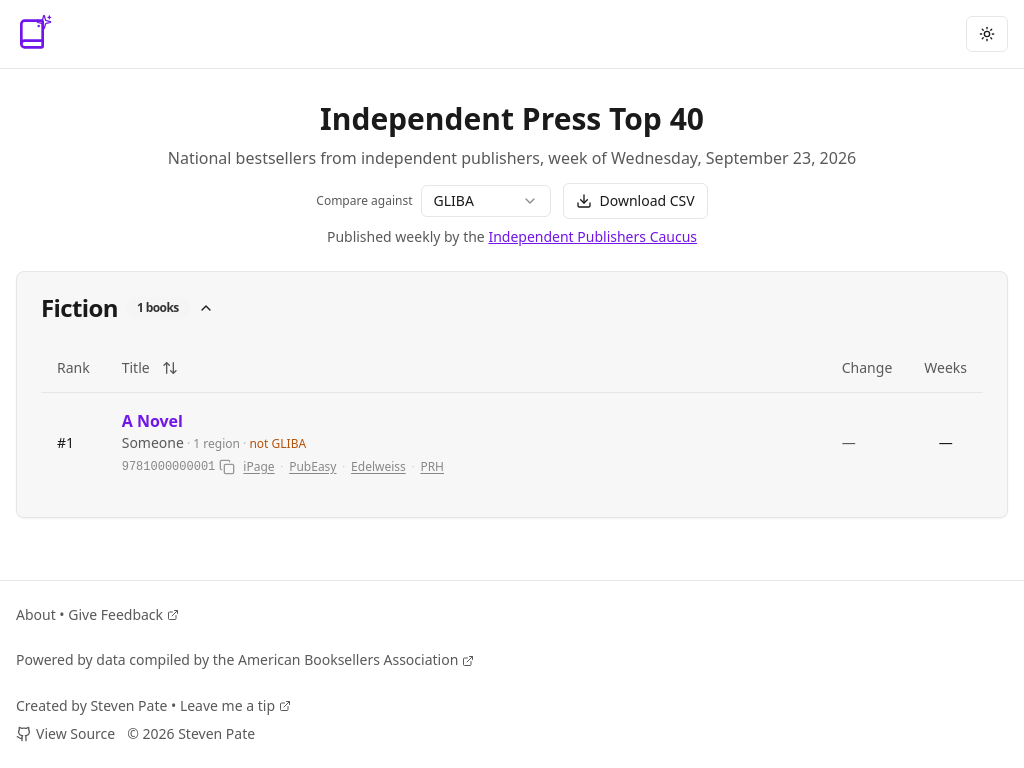
Scenario: IndiePress compare-region persistence › remembers the picked region without touching the nav region
Expected: the link "A Novel" is shown, [122,410,183,432]
Click the dropdown named "Region to compare".
click(486, 201)  # box [420,185,550,217]
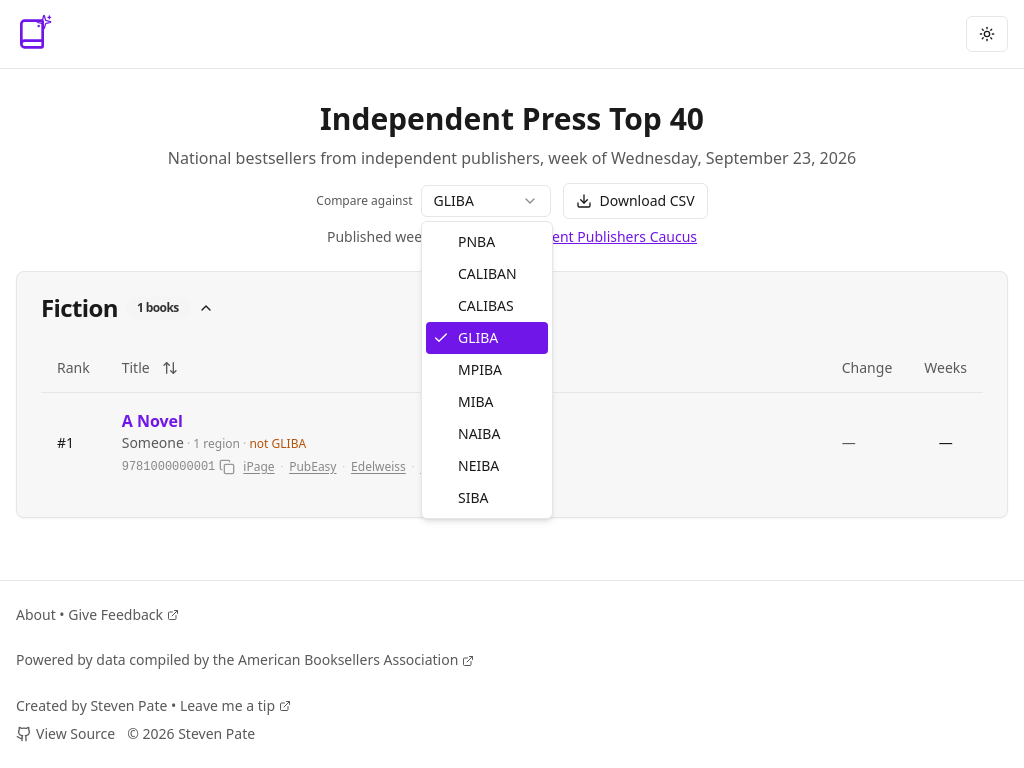
Click the option "SIBA".
click(473, 498)  # box [458,488,488,507]
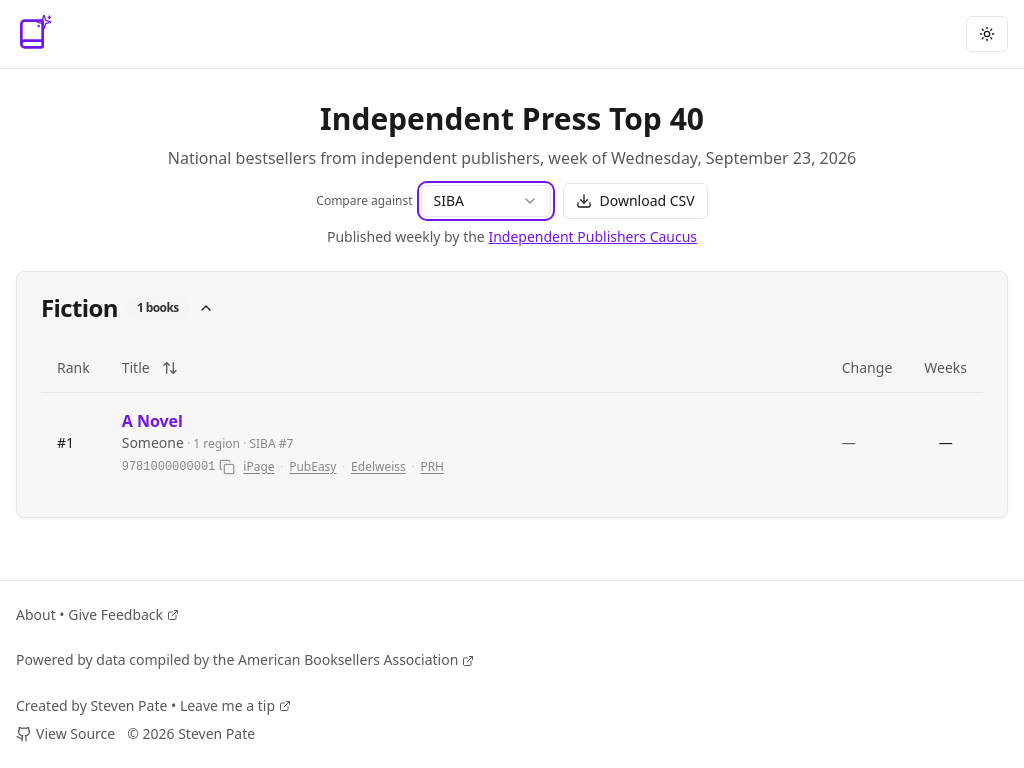
Result: the text "SIBA" is shown at [434,191,464,211]
